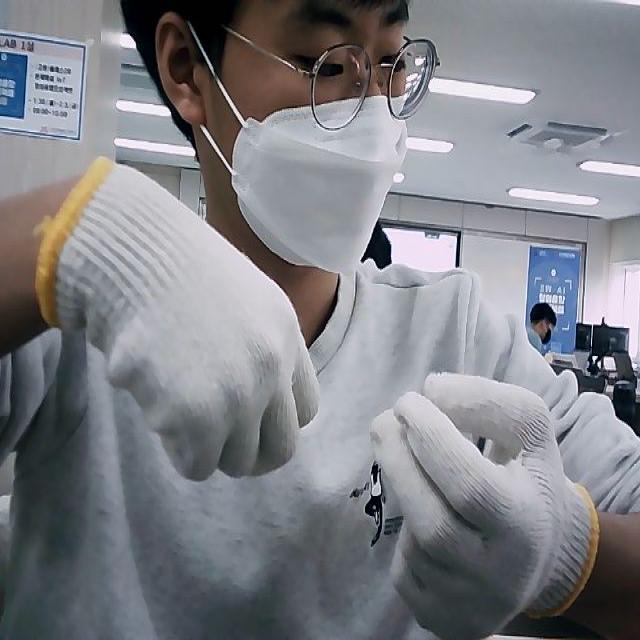GLOVE: (35, 156, 320, 482), (369, 368, 601, 639)
